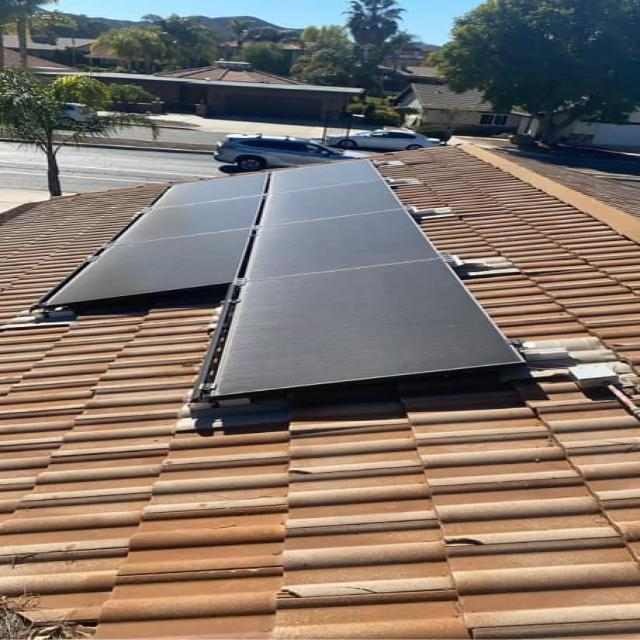dust-solar-panel: (32, 159, 521, 397)
